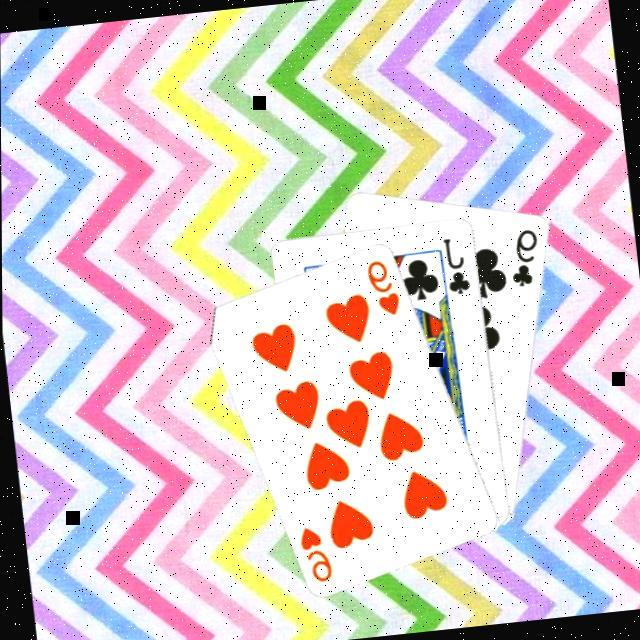9C: (505, 224, 547, 292)
9H: (364, 254, 406, 320), (296, 521, 337, 586)
JC: (441, 233, 475, 298)
